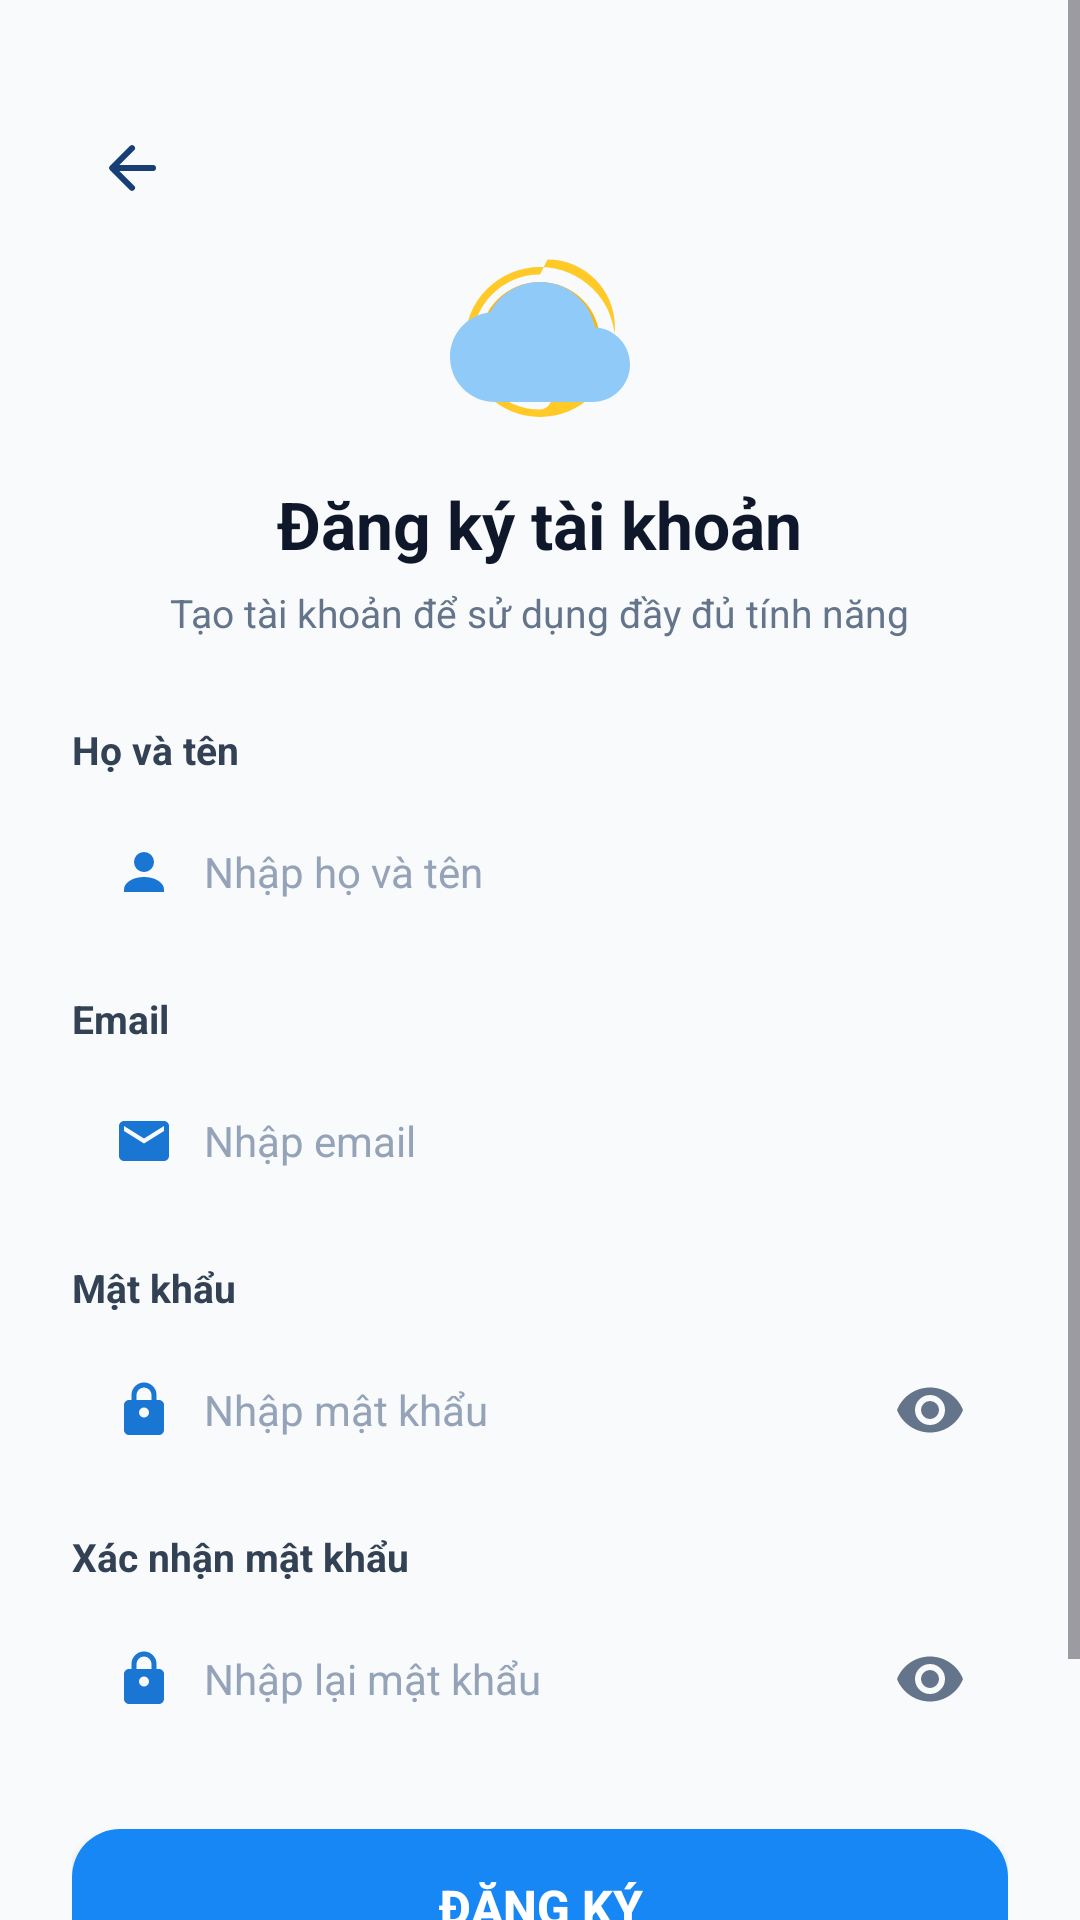

Screen size 1080x1920. Icon name, then its box in pixels as {"x1": x1, "y1": y1, "x2": x2, "y2": y2}:
Back: {"x1": 109, "y1": 145, "x2": 156, "y2": 191}
Lock icon: {"x1": 124, "y1": 1382, "x2": 164, "y2": 1435}, {"x1": 124, "y1": 1651, "x2": 164, "y2": 1704}
Show/Hide: {"x1": 897, "y1": 1387, "x2": 963, "y2": 1433}, {"x1": 897, "y1": 1656, "x2": 963, "y2": 1702}
User icon: {"x1": 124, "y1": 852, "x2": 164, "y2": 892}
